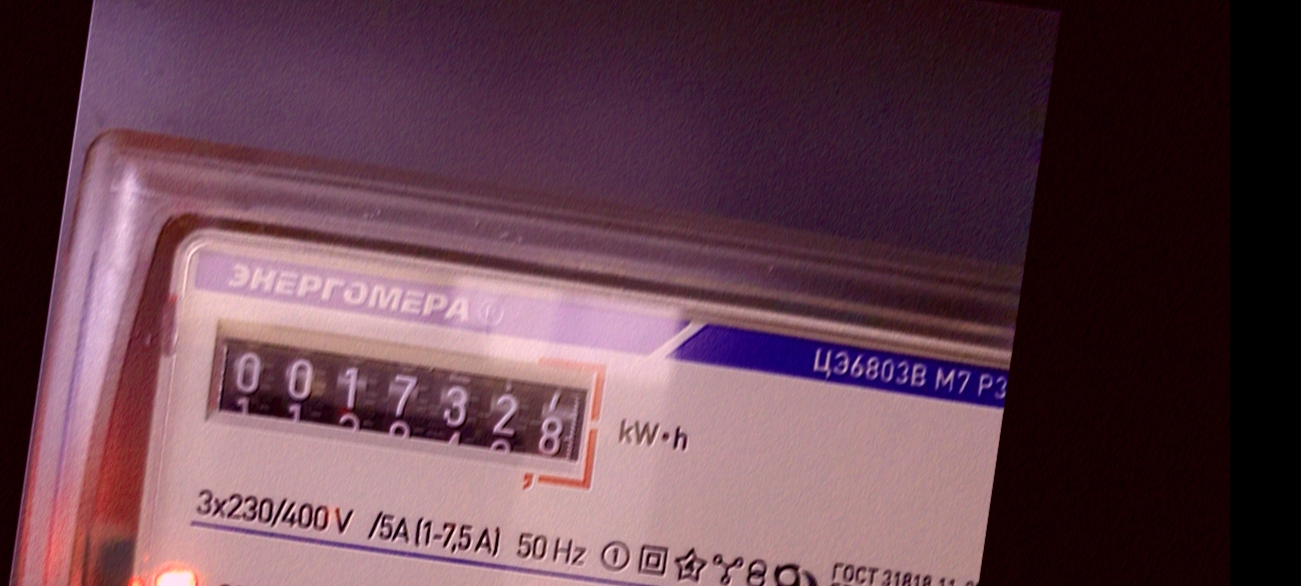0: (229, 349, 267, 397), (282, 354, 317, 403)
1: (336, 363, 363, 412)
2: (486, 390, 522, 439)
3: (438, 383, 471, 429)
7: (385, 371, 418, 421)
8: (533, 413, 564, 458)
screen: (190, 311, 615, 496)
